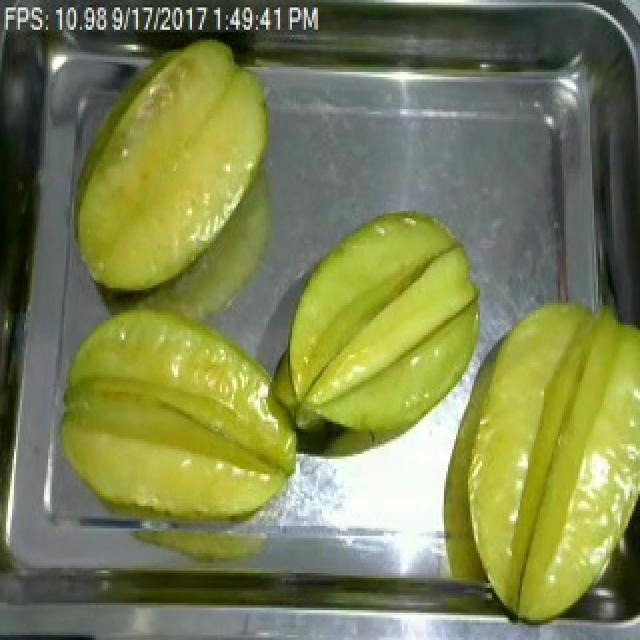fruit: (436, 292, 640, 632), (46, 290, 312, 536), (58, 25, 284, 312), (270, 196, 494, 454)
